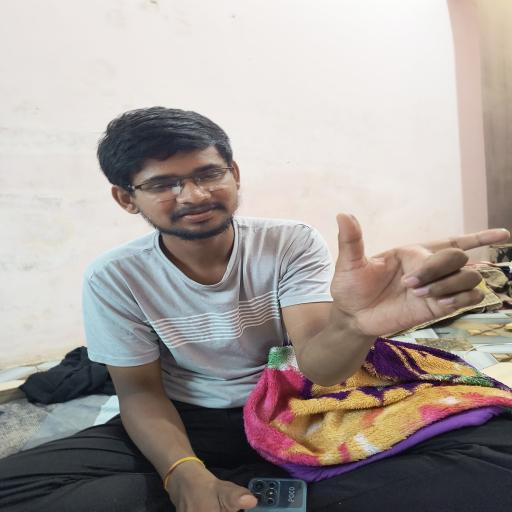Sorry: (301, 201, 512, 362)
